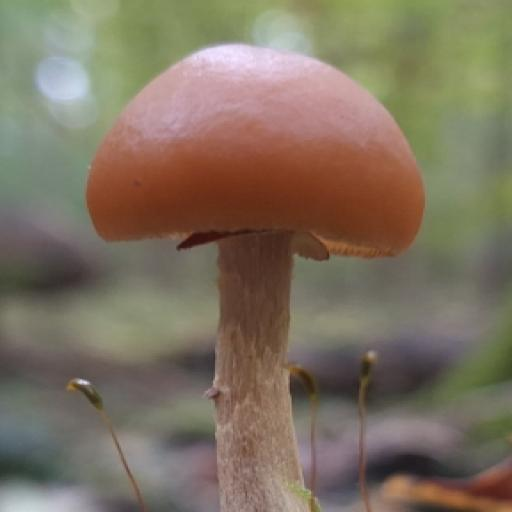mushroom: (59, 25, 455, 357)
